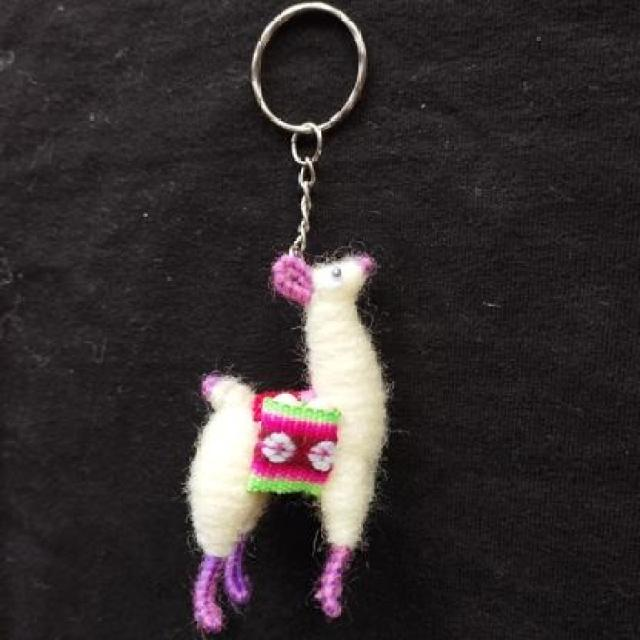Llavero: (182, 249, 392, 636)
